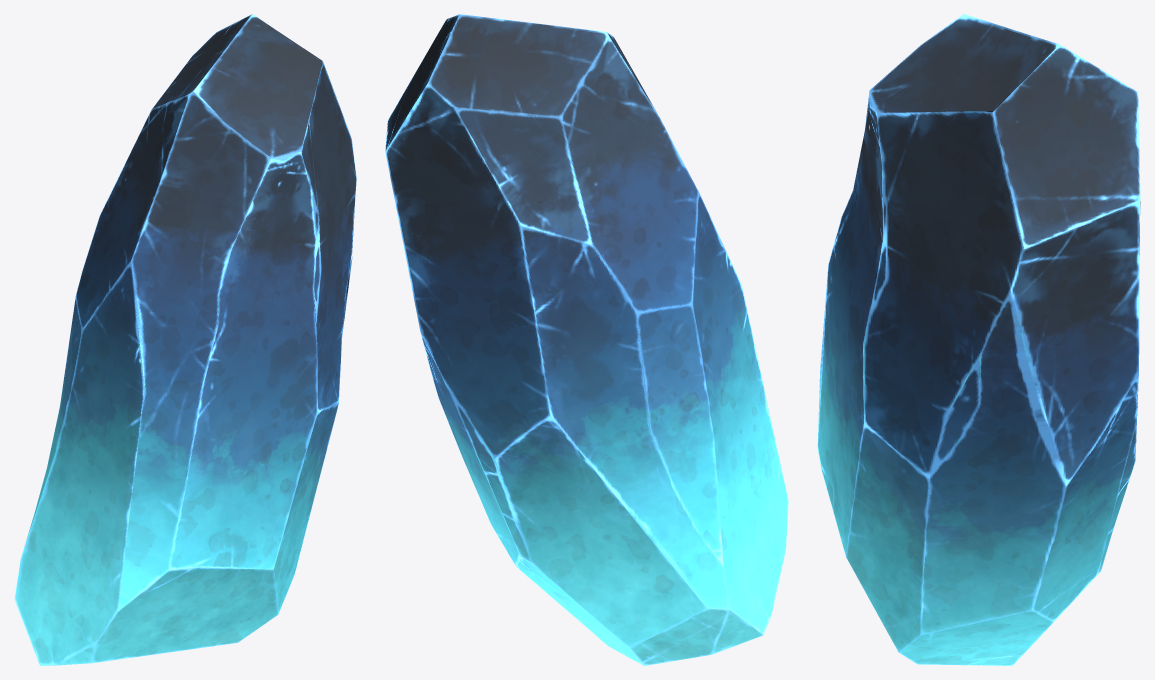
Rendered from gemma.glb.
3 views of the same model, side by side, from view 1: azimuth 30°, elevation 25°; view 2: azimuth 150°, elevation 25°; view 3: azimuth 270°, elevation 25° (orthographic). The views are drawn at different scales.
Parts seen in each view (by area): view 1: Crystal_low.002_Crystal_0.002; view 2: Crystal_low.002_Crystal_0.002; view 3: Crystal_low.002_Crystal_0.002.
Part boxes in pixels (x1,y1,x2,y2): Crystal_low.002_Crystal_0.002: (14, 14, 356, 665); Crystal_low.002_Crystal_0.002: (385, 14, 788, 665); Crystal_low.002_Crystal_0.002: (817, 14, 1140, 665).
Size of the model in its own units: 0.071 by 0.1196 by 0.0505.
1 material, 1 textured.
